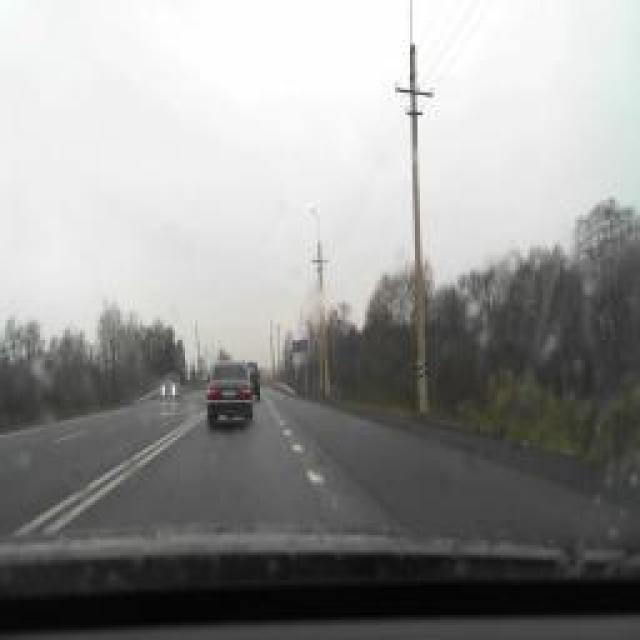sign: (292, 338, 308, 354)
